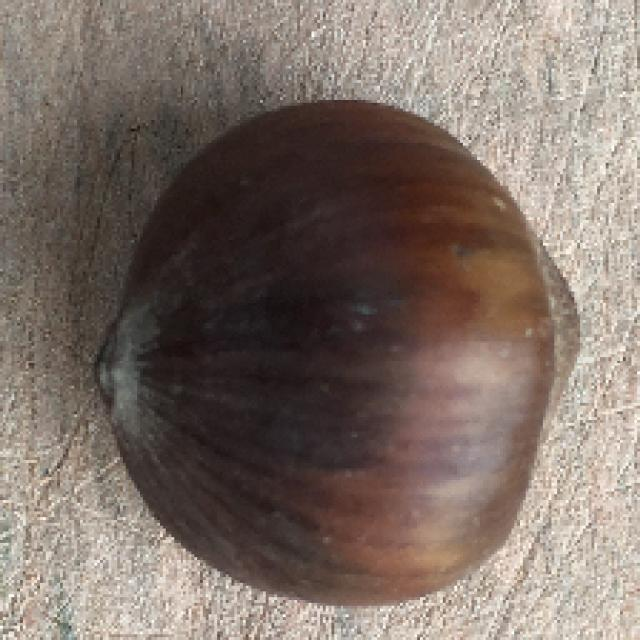DamagedHazelnut: (96, 97, 582, 602)
